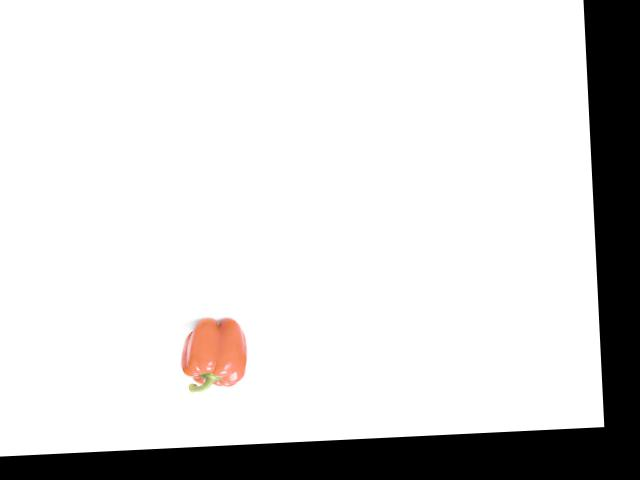bell_pepper: (178, 314, 250, 394)
